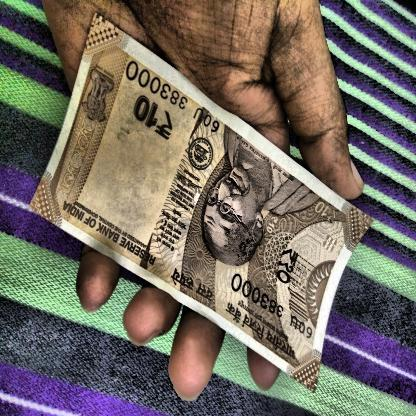Rs10: (126, 87, 182, 151)
